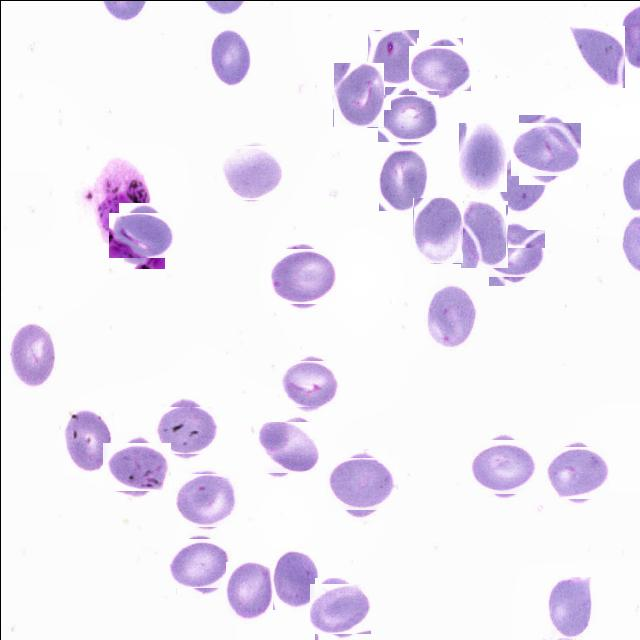red blood cell: (330, 452, 392, 514), (514, 118, 576, 180), (271, 245, 332, 306), (472, 436, 532, 496), (61, 408, 113, 477), (175, 470, 235, 529), (546, 442, 606, 500), (569, 25, 624, 87), (332, 62, 384, 127), (107, 436, 165, 494), (222, 143, 280, 201), (458, 122, 506, 191), (156, 401, 214, 458), (412, 197, 462, 263), (496, 151, 548, 214), (459, 200, 507, 268), (424, 285, 476, 347), (7, 322, 55, 389), (378, 146, 428, 210), (484, 225, 540, 281), (311, 580, 367, 636), (172, 534, 228, 590), (113, 207, 169, 263), (260, 418, 316, 474), (367, 29, 418, 89), (270, 548, 320, 609), (380, 90, 435, 144), (412, 41, 466, 95), (546, 576, 592, 638), (224, 561, 272, 620), (282, 357, 335, 410), (207, 26, 250, 85)
trophozoite: (91, 153, 151, 246)
